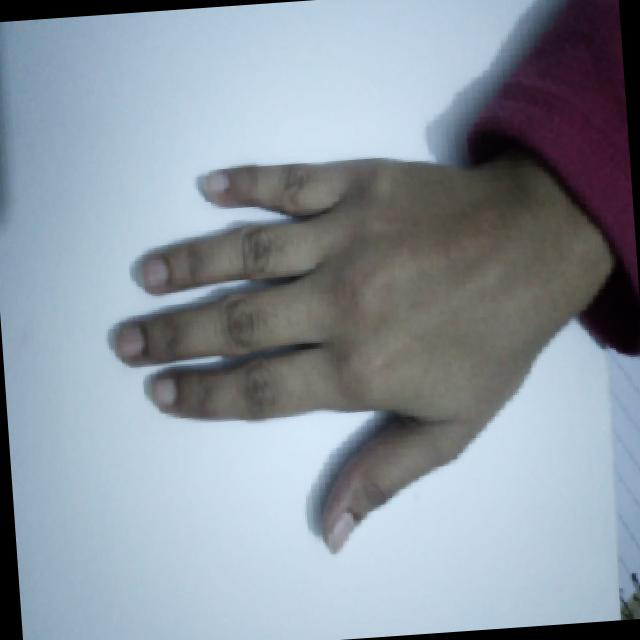Nail: (323, 509, 356, 552), (113, 324, 142, 359), (148, 375, 177, 407), (139, 258, 167, 288), (201, 170, 226, 194)
